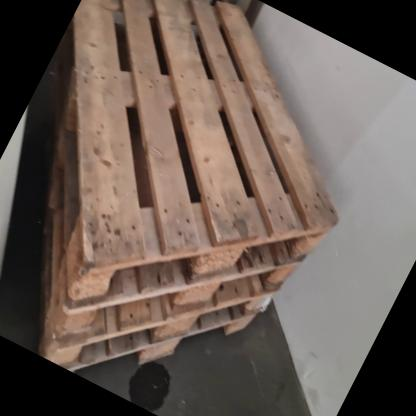BoxFace: (54, 0, 341, 300)
